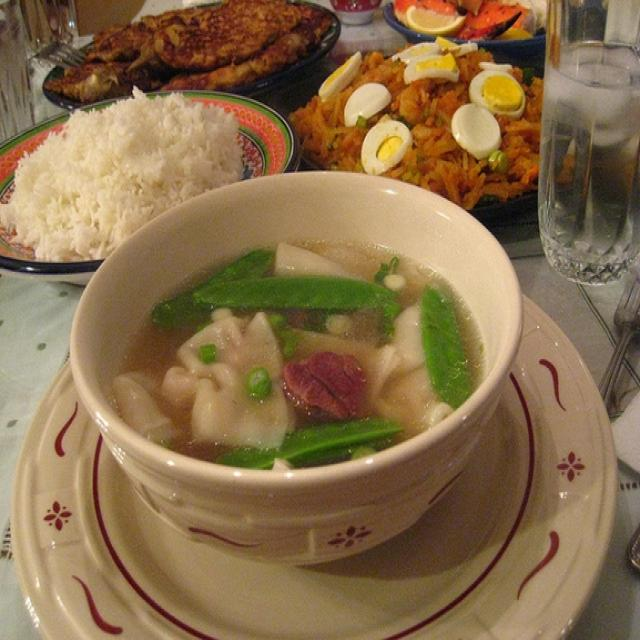汤锅炖物: (68, 164, 529, 488)
